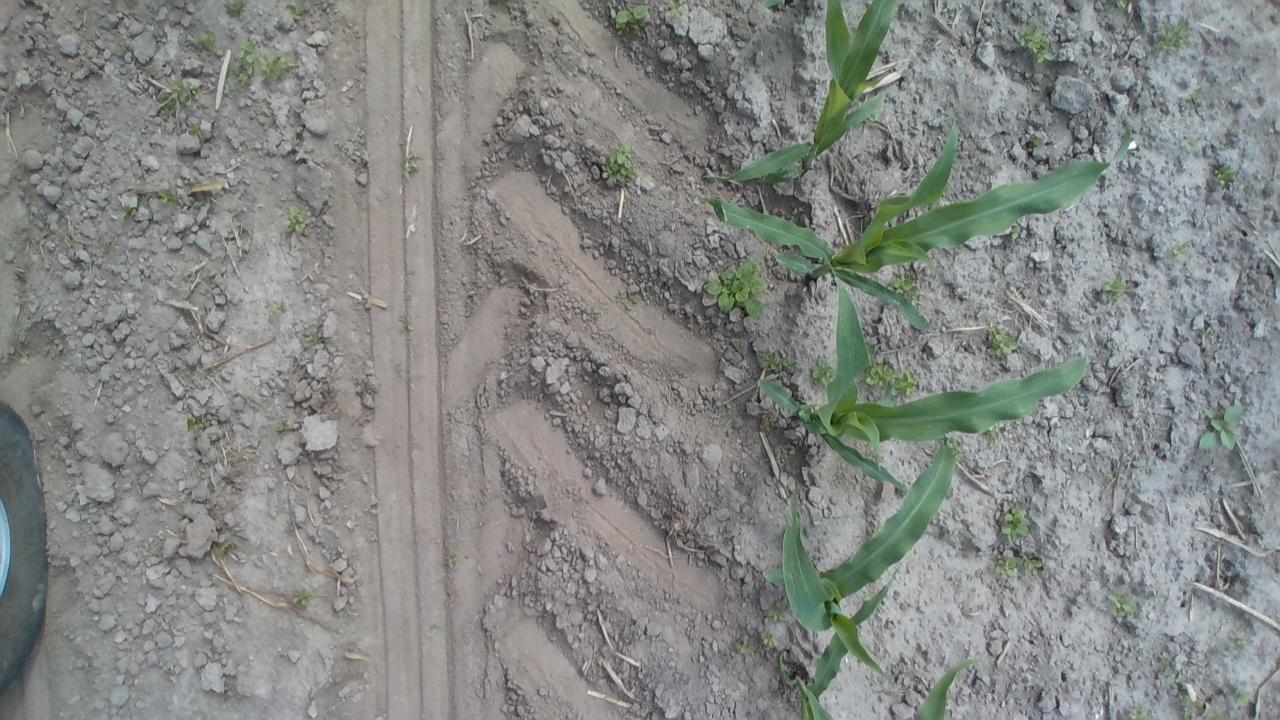Maize: (699, 121, 1134, 336), (754, 248, 1089, 500), (761, 446, 954, 680), (701, 0, 901, 185), (774, 648, 985, 720)
Weeds: (701, 258, 767, 320), (227, 40, 299, 88), (1198, 404, 1243, 450), (866, 359, 920, 397), (607, 2, 657, 39), (600, 142, 640, 185), (154, 78, 202, 110), (1018, 23, 1057, 62), (999, 503, 1031, 546), (986, 320, 1022, 357), (887, 271, 926, 304), (996, 552, 1043, 576), (810, 351, 836, 394), (1158, 20, 1190, 51), (1105, 590, 1138, 619), (190, 28, 222, 56), (282, 207, 314, 234), (758, 350, 796, 370), (1102, 274, 1128, 303), (1176, 693, 1202, 720), (86, 46, 112, 72), (1214, 164, 1240, 186), (614, 286, 636, 311), (182, 122, 206, 144), (1225, 632, 1249, 654), (282, 2, 302, 24), (158, 188, 178, 210), (988, 421, 1004, 448), (1232, 686, 1250, 710), (1128, 703, 1153, 720), (292, 589, 314, 608), (661, 0, 687, 16), (766, 606, 792, 622), (759, 628, 778, 649), (119, 202, 137, 224), (946, 436, 961, 462), (402, 150, 418, 174), (1160, 662, 1178, 682), (1207, 704, 1228, 720), (1006, 226, 1024, 244), (582, 303, 600, 321), (1170, 240, 1190, 256), (270, 298, 288, 315), (184, 416, 203, 432), (1188, 86, 1206, 102), (736, 640, 754, 656), (212, 544, 228, 562), (1026, 132, 1040, 152), (1185, 136, 1202, 152), (1070, 334, 1088, 348), (304, 332, 322, 346), (224, 0, 242, 13), (273, 419, 289, 433), (968, 654, 982, 668), (118, 40, 129, 56), (142, 130, 158, 141), (430, 625, 441, 639), (1116, 0, 1128, 9), (1102, 470, 1112, 480), (447, 559, 457, 569), (14, 327, 24, 337)
